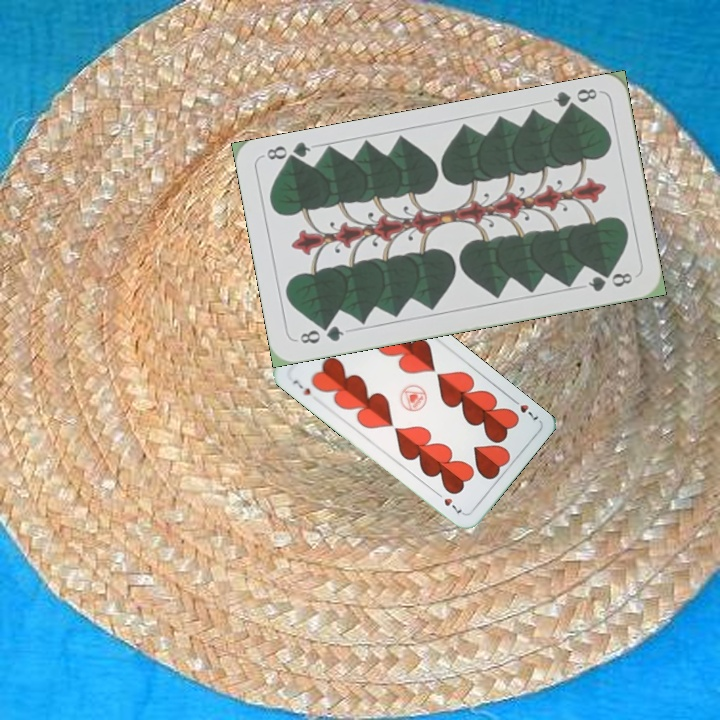G8: (549, 84, 600, 116), (296, 321, 347, 347)
H7: (507, 394, 541, 423), (289, 375, 313, 398)
